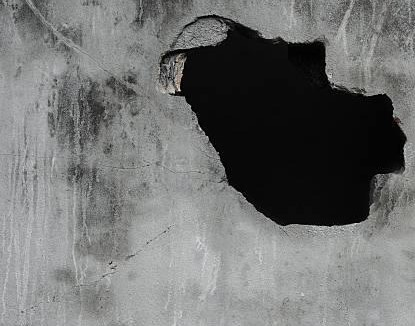Crack: (20, 226, 172, 313), (27, 1, 152, 99), (1, 152, 218, 176)
Spalling: (155, 13, 408, 226)
